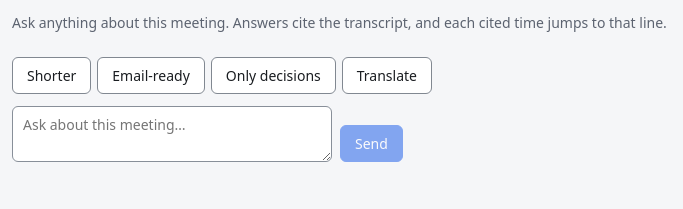
AskAiTab history and sending › keeps the typed text and shows the error when the send fails
The image size is (683, 209).
Type "still there?" into the text box labelled "Ask about this meeting" at [172, 134], box [12,106,332,162]
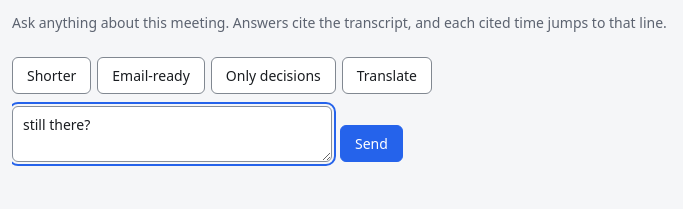
Click the button "Send" at [371, 144], box [340,125,403,162]
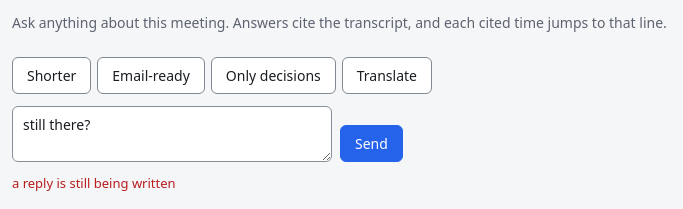
Expected: the message reads "a reply is still being written", [12,174,176,192]
